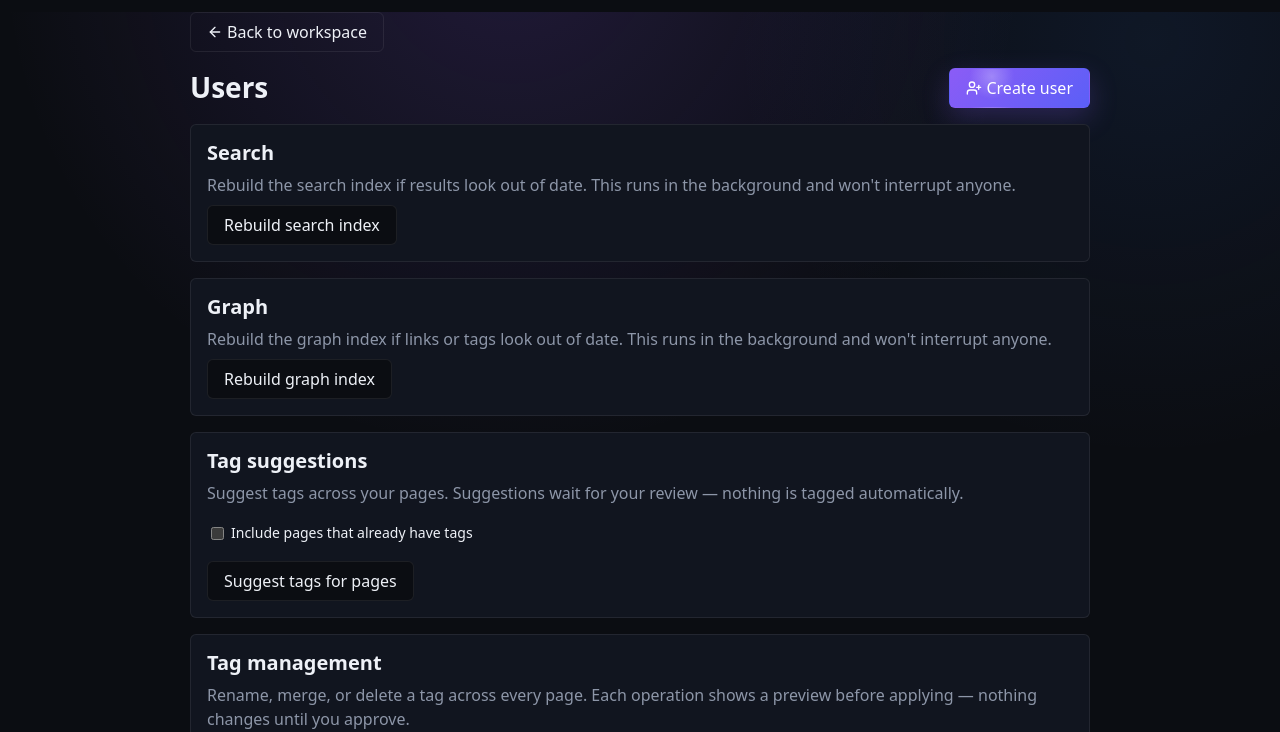
Test: Admin — Tag suggestions sweep-start (TAG-05) › shows the 'every page already has tags' line when queued===0
This screenshot has width=1280, height=732.
Click the button "Suggest tags for pages".
click(310, 581)  # box x1=207 y1=561 x2=414 y2=601
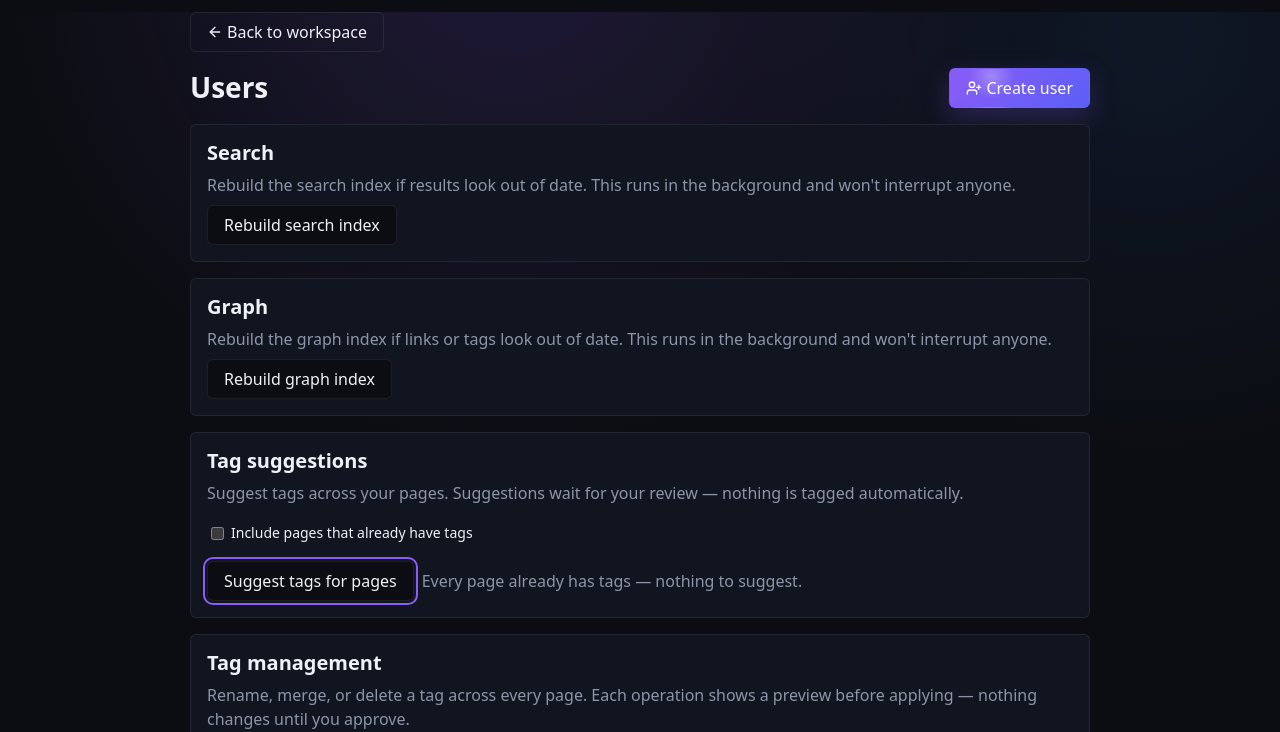
Expected: the text "Every page already has tags — nothing to suggest." is shown, x1=422 y1=569 x2=802 y2=593
